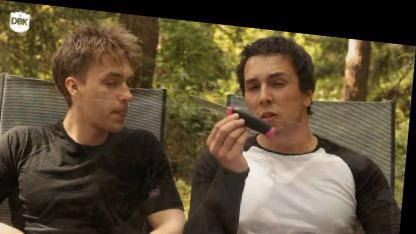knife: (179, 81, 283, 138)
